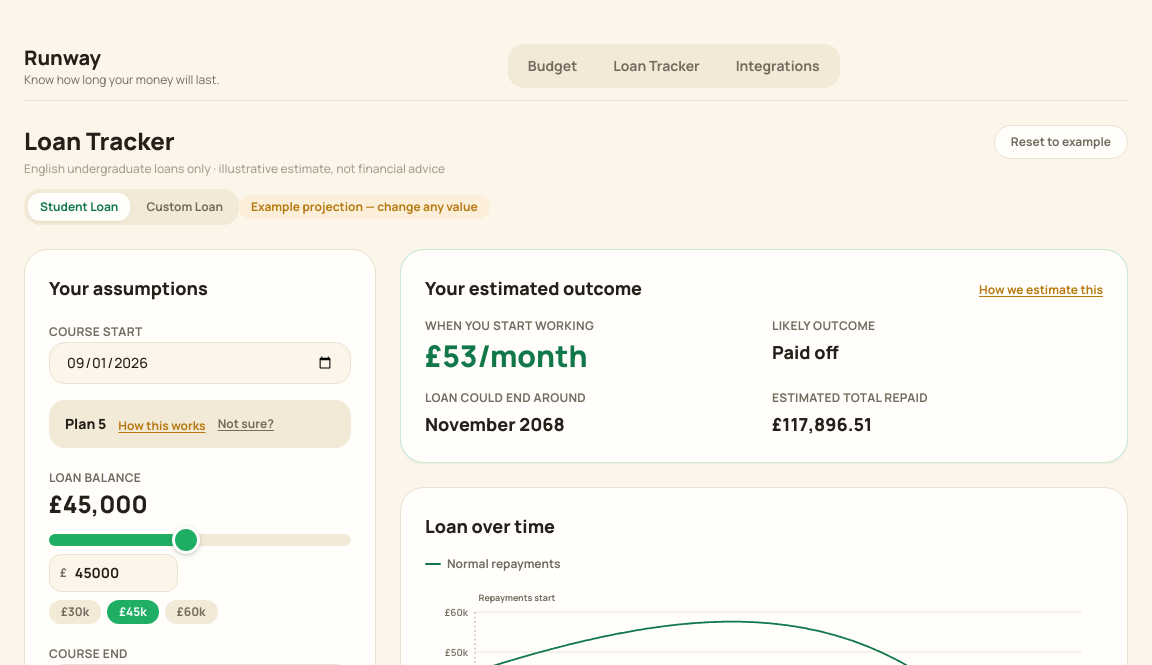
Test: LoanTrackerShell - Custom Loan mode switch › switches to the Custom Loan calculator without touching Student Loan state, and back again
This screenshot has width=1152, height=665.
Click the tab "Custom Loan".
click(185, 207)  # box [134,193,235,221]
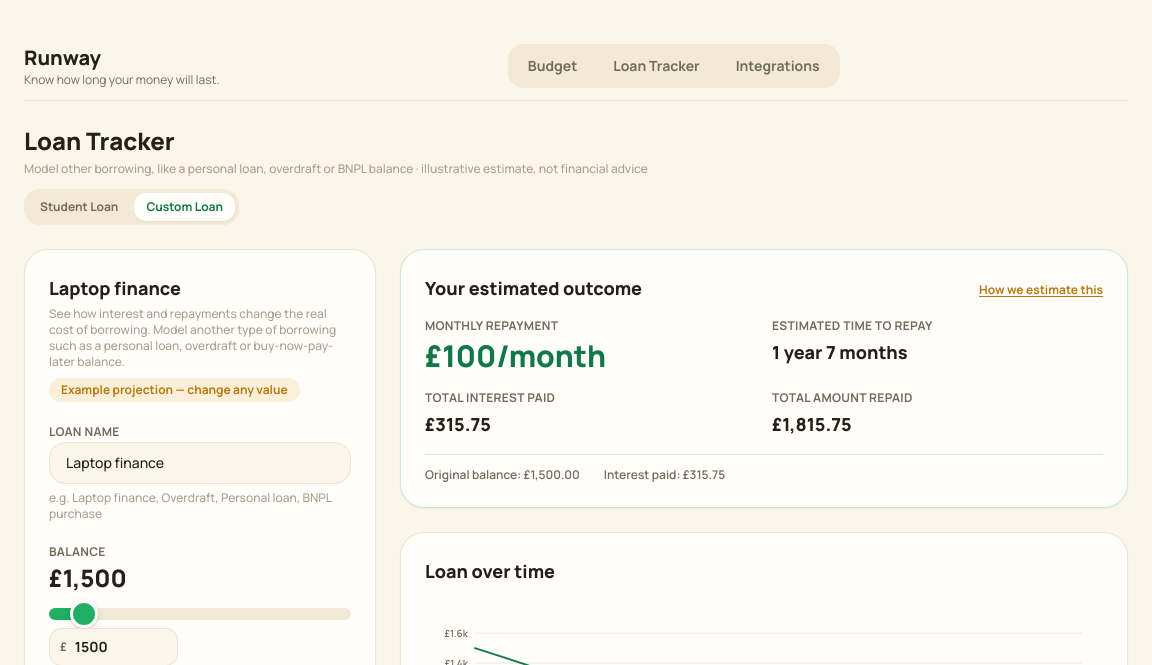
expect the heading "Laptop finance" is shown: met, box [49,276,181,300]
expect the heading "Your assumptions" is gone: met
Click the tab "Student Loan".
click(79, 207)  # box [28,193,130,221]
(page scrolled)
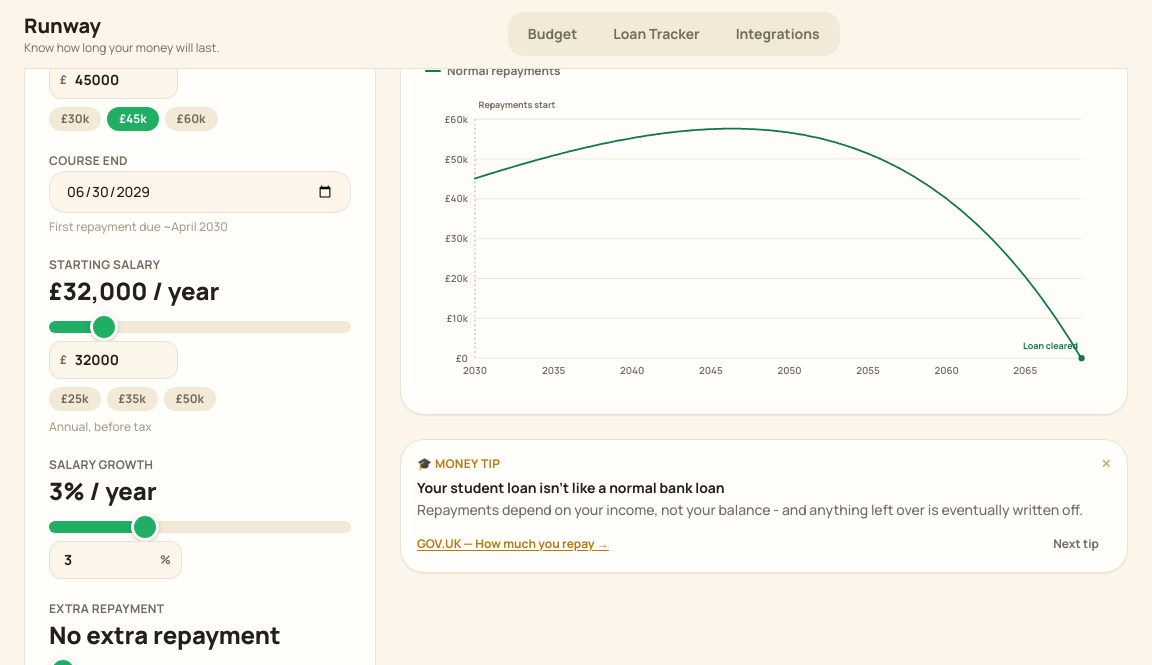
expect the number field named "starting salary - exact value" holds "32000": met, box [71,346,167,374]
